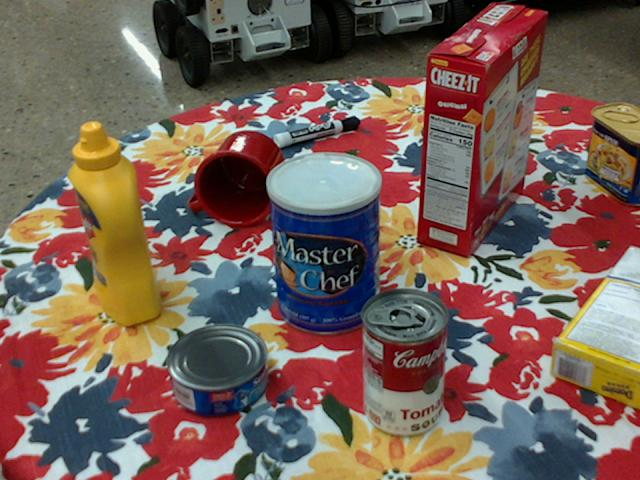cracker_box: (421, 5, 547, 256)
gelatin_box: (431, 106, 498, 156)
large_marker: (272, 114, 358, 147)
master_chef_can: (265, 152, 380, 336)
mug: (188, 130, 282, 228)
mustard_bottle: (68, 123, 162, 326)
potted_meat_can: (585, 102, 639, 204)
sugar_box: (551, 245, 639, 408)
tomato_soup_can: (361, 287, 448, 436)
tuna_fish_can: (164, 323, 266, 415)
